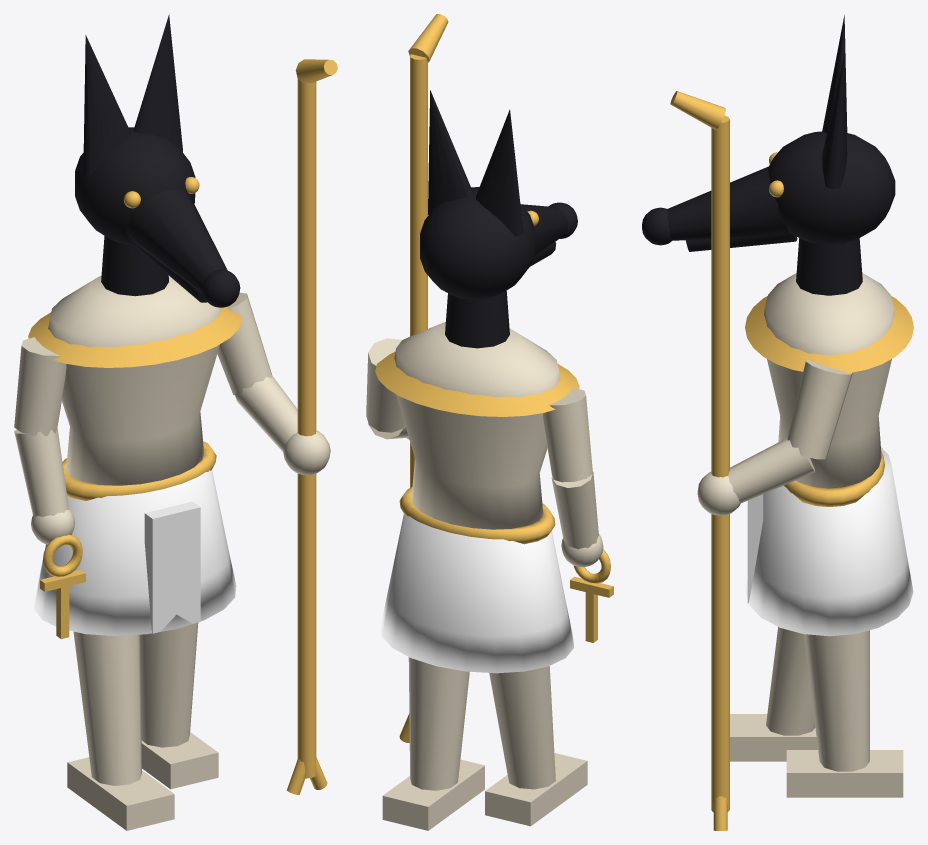
The model's file is god-anubis.glb.
The picture shows the model from 3 angles, left to right: view 1: azimuth 30°, elevation 25°; view 2: azimuth 150°, elevation 25°; view 3: azimuth 270°, elevation 25°; orthographic projection. The views are drawn at different scales.
Visible parts, largest first — view 1: figurka; view 2: figurka; view 3: figurka.
Part boxes in pixels (<box>): figurka: <box>14,14,337,830</box>; figurka: <box>366,14,613,830</box>; figurka: <box>642,15,913,830</box>.
Size of the model in its own units: 0.373 by 1.04 by 0.3497.
